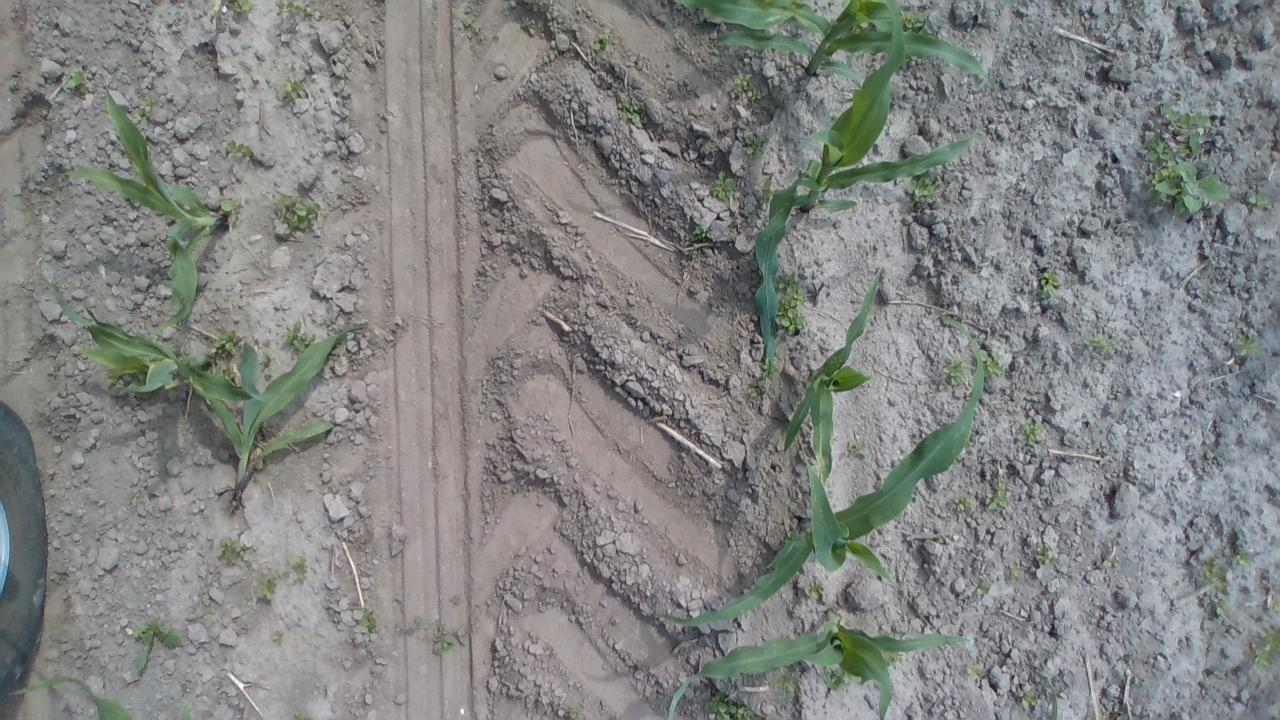Maize: (658, 310, 986, 628), (756, 0, 980, 362), (41, 78, 230, 347), (196, 323, 388, 516), (676, 0, 996, 109), (668, 607, 971, 719), (39, 274, 260, 404), (783, 268, 884, 482), (11, 679, 132, 720), (1034, 652, 1058, 720), (178, 704, 192, 720)
Weeds: (1140, 89, 1232, 217), (130, 616, 182, 671), (272, 192, 322, 237), (778, 272, 805, 333), (702, 689, 754, 720), (766, 674, 804, 714), (1251, 622, 1280, 670), (1198, 550, 1228, 592), (430, 624, 470, 655), (212, 531, 248, 562), (1032, 266, 1062, 302), (282, 320, 314, 350), (734, 71, 764, 102), (284, 548, 311, 582), (942, 352, 968, 386), (708, 168, 734, 200), (985, 480, 1011, 512), (906, 175, 936, 202), (1016, 418, 1044, 446), (210, 326, 236, 356), (275, 0, 316, 19), (1083, 332, 1114, 357), (280, 74, 304, 103), (1237, 329, 1260, 359), (226, 138, 254, 162), (618, 100, 646, 124), (134, 93, 157, 122), (220, 198, 243, 227), (982, 350, 1004, 378), (802, 576, 826, 600), (255, 577, 279, 601), (744, 132, 766, 156), (1248, 190, 1270, 214), (842, 439, 866, 459), (834, 668, 858, 688), (358, 609, 378, 633), (1034, 542, 1054, 565), (66, 67, 88, 87), (904, 8, 926, 28), (972, 575, 992, 596), (462, 14, 478, 40), (760, 357, 778, 380), (215, 363, 238, 381), (1230, 549, 1252, 567), (1212, 595, 1230, 617), (1018, 687, 1037, 707), (232, 0, 256, 15), (761, 174, 772, 206), (965, 663, 983, 680), (954, 494, 971, 511), (692, 226, 712, 240), (1266, 592, 1280, 612), (1010, 564, 1024, 583), (408, 616, 424, 632), (593, 33, 608, 50), (292, 708, 312, 720), (272, 628, 286, 644), (263, 355, 274, 374), (1102, 556, 1118, 569), (180, 682, 190, 702), (449, 594, 461, 608), (746, 386, 762, 396), (570, 706, 582, 718), (784, 530, 796, 541), (890, 653, 903, 663), (1116, 710, 1128, 720), (146, 75, 154, 88), (214, 0, 222, 13), (702, 578, 712, 588), (129, 493, 138, 504), (764, 713, 777, 720), (1086, 713, 1096, 720), (79, 88, 87, 94)
